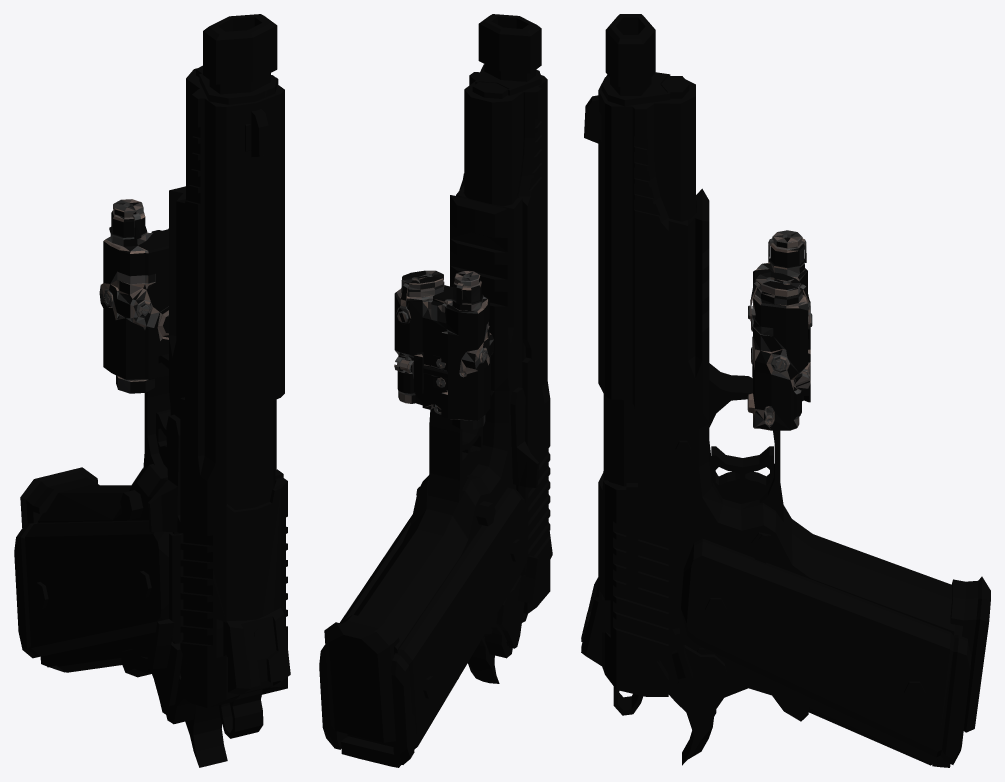
Rendered from M45A1__Laser_Pistol.fbx.
3 views of the same model, side by side, from view 1: azimuth 30°, elevation 25°; view 2: azimuth 150°, elevation 25°; view 3: azimuth 270°, elevation 25° (orthographic). The views are drawn at different scales.
Parts seen in each view (by area): view 1: asset_M45A1.001; view 2: asset_M45A1.001; view 3: asset_M45A1.001.
Boxes of the visible parts, left/top/right/bottom form: asset_M45A1.001: left=14, top=14, right=290, bottom=767; asset_M45A1.001: left=319, top=14, right=552, bottom=767; asset_M45A1.001: left=581, top=14, right=990, bottom=767.
Size of the model in its own units: 0.022 by 0.1332 by 0.0675.
